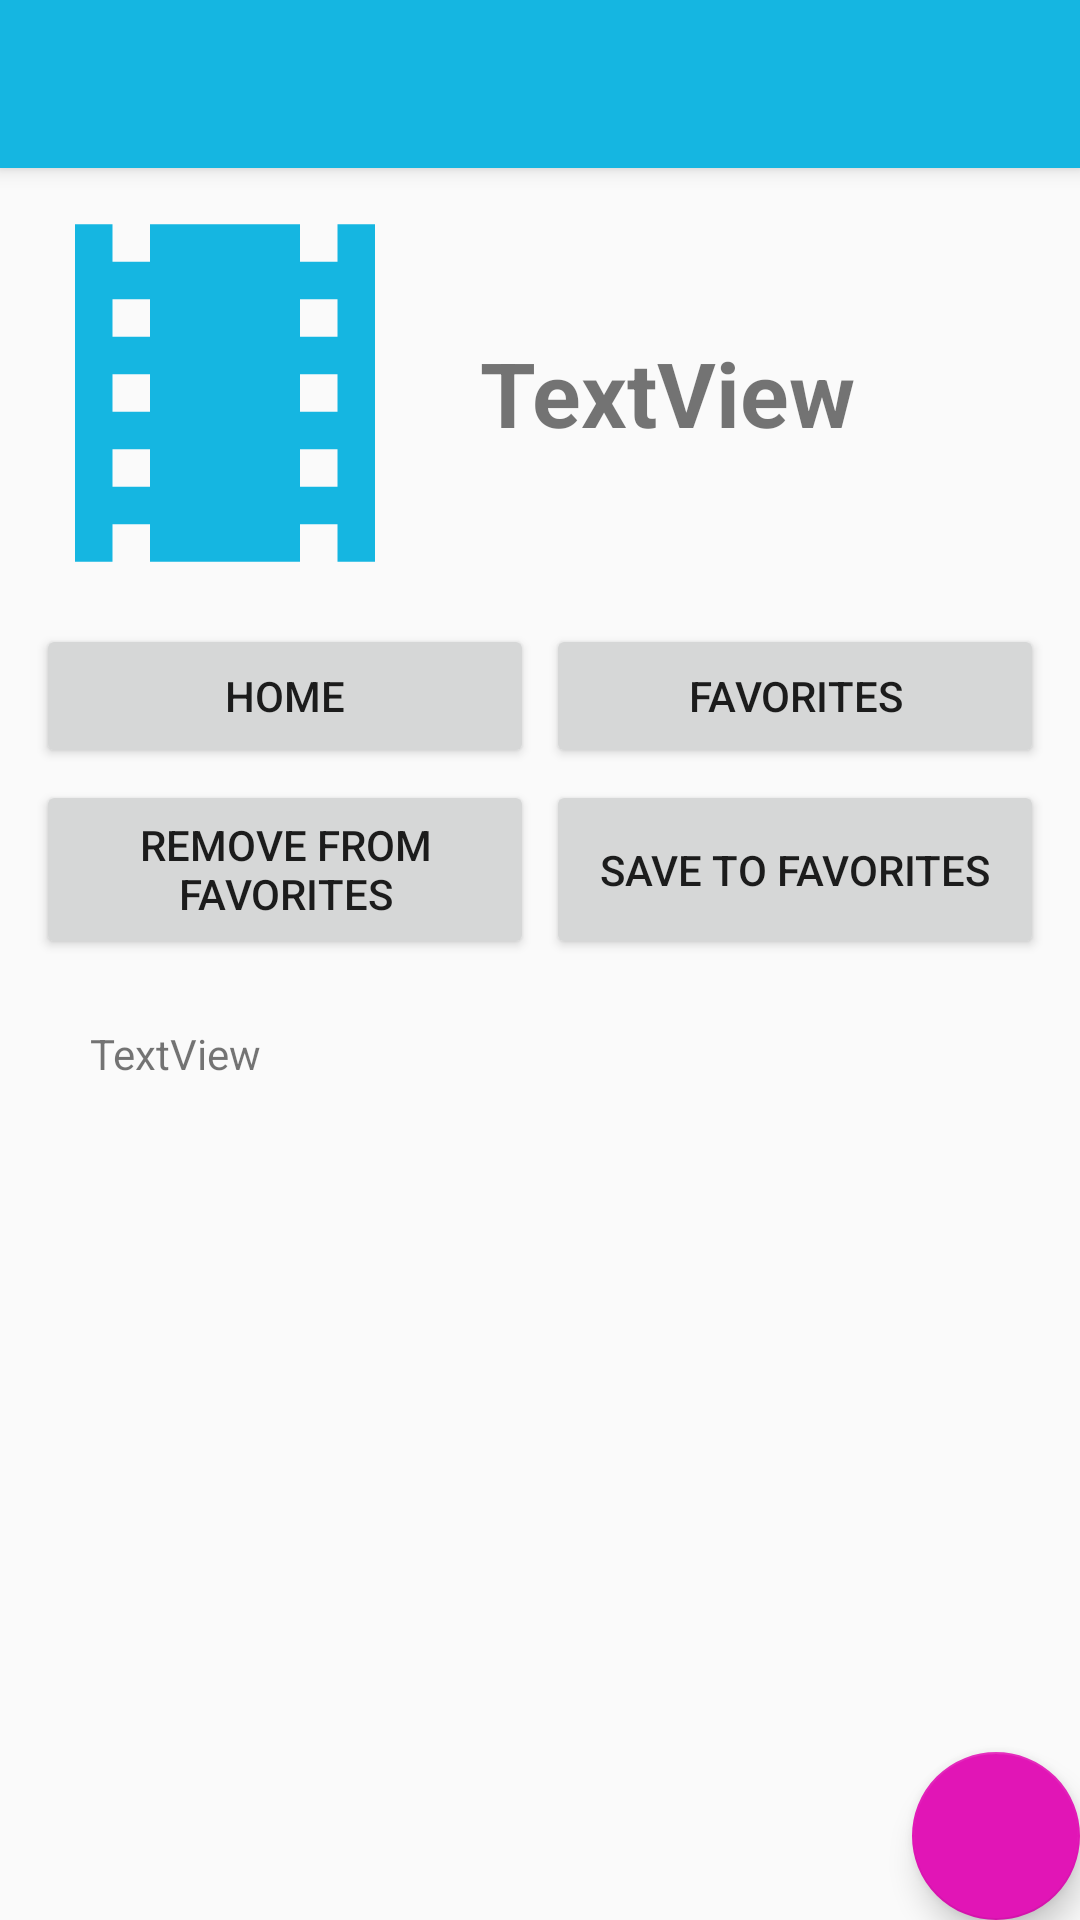

Where icons sit on this 1080w x 1920h app screen, as Rect(x1, y1, x2, y2):
movie: Rect(75, 224, 375, 562)
